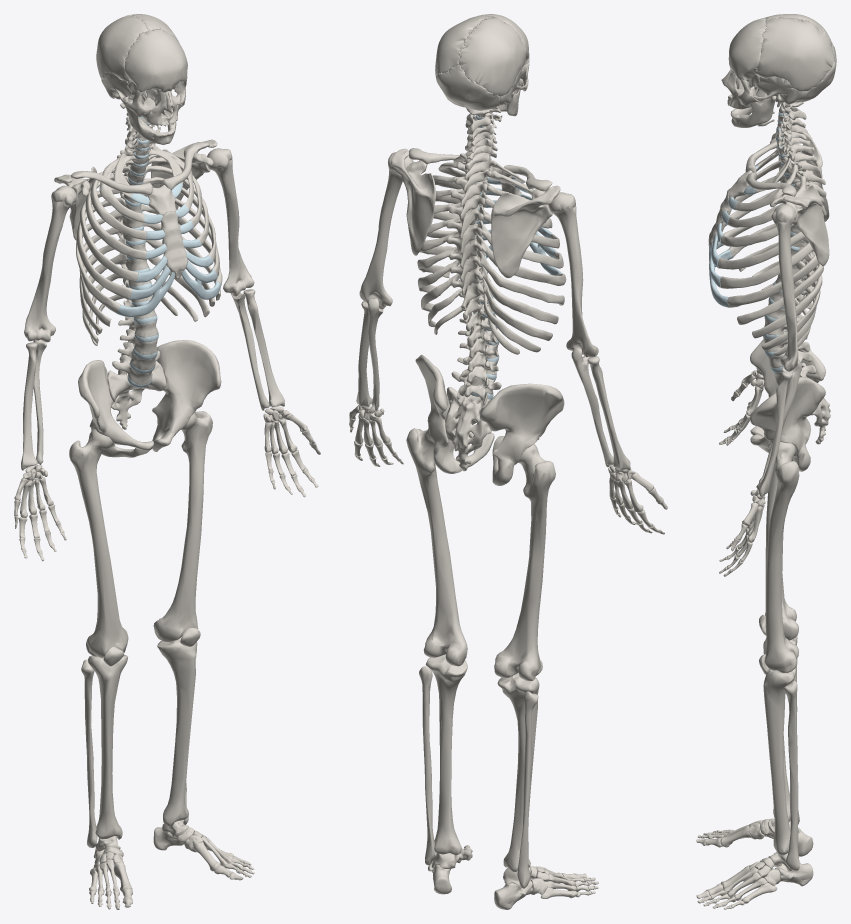
File: esqueletico.glb
3 views of the same model, side by side, from view 1: azimuth 30°, elevation 25°; view 2: azimuth 150°, elevation 25°; view 3: azimuth 270°, elevation 25° (orthographic). The views are drawn at different scales.
Visible parts, largest first — view 1: femur-d, femur-i, coxal-i, tibia-i, frontal, tibia-d, coxal-d, humero-d, humero-i, parietal-d, sacro, perone-d (+17 smaller); view 2: femur-d, femur-i, coxal-d, parietal-d, escapula-d, tibia-i, tibia-d, coxal-i, humero-d, escapula-i, sacro, humero-i (+14 smaller); view 3: femur-i, parietal-i, tibia-i, coxal-i, humero-i, escapula-i, perone-i, frontal, coxal-d, femur-d, radio-i, temporal-i (+23 smaller).
Part boxes in pixels (x1,y1,x2,y2): femur-d: (69,428,128,657); femur-i: (153,411,212,641); coxal-i: (152,340,221,451); tibia-i: (157,637,197,826); frontal: (125,28,187,93); tibia-d: (88,654,127,839); coxal-d: (78,360,153,457); humero-d: (24,185,76,342); humero-i: (207,148,254,296); parietal-d: (96,15,149,81); sacro: (107,361,166,429); perone-d: (81,659,97,847); femur-d: (494,444,555,681); femur-i: (406,428,467,666); coxal-d: (480,383,564,485); parietal-d: (458,16,526,96); escapula-d: (491,185,560,278); tibia-i: (425,654,467,854); tibia-d: (497,673,539,871); coxal-i: (415,354,494,473); humero-d: (549,192,598,357); escapula-i: (391,148,435,255); sacro: (445,387,491,471); humero-i: (359,152,413,309); femur-i: (764,442,799,673); parietal-i: (755,17,834,91); tibia-i: (763,668,795,855); coxal-i: (750,377,825,471); humero-i: (771,204,798,371); escapula-i: (770,184,829,266); perone-i: (783,680,799,870); frontal: (728,17,766,80); coxal-d: (750,330,825,443); femur-d: (765,460,798,640); radio-i: (756,371,792,497); temporal-i: (753,76,807,107).
Bounding box in the file's own units: 0.6478 × 1.71 × 0.254.
